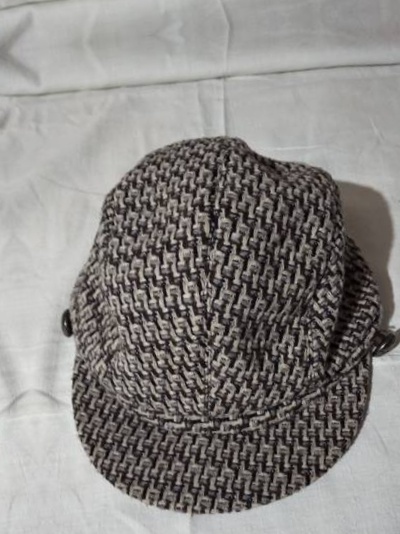Hat: (19, 115, 400, 531), (0, 162, 33, 534)
